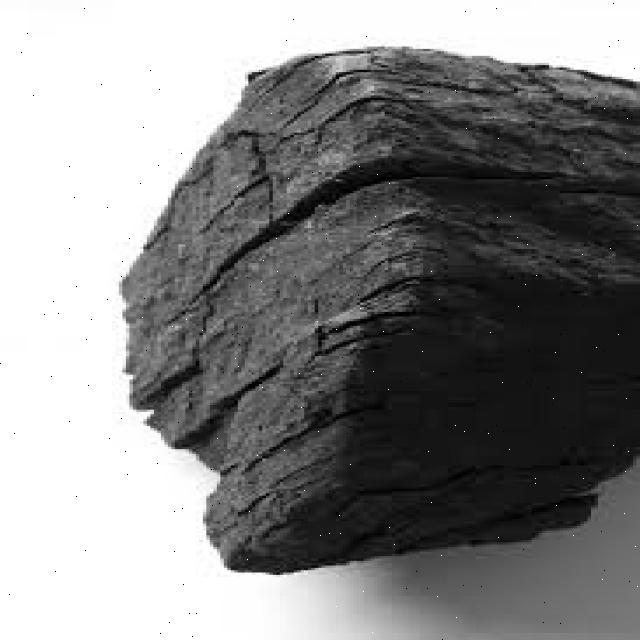Sedimentary: (98, 44, 640, 594)
